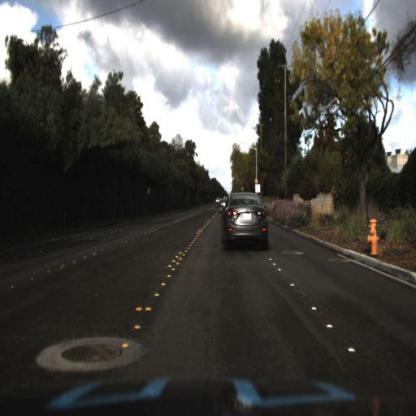car: (224, 191, 271, 251)
